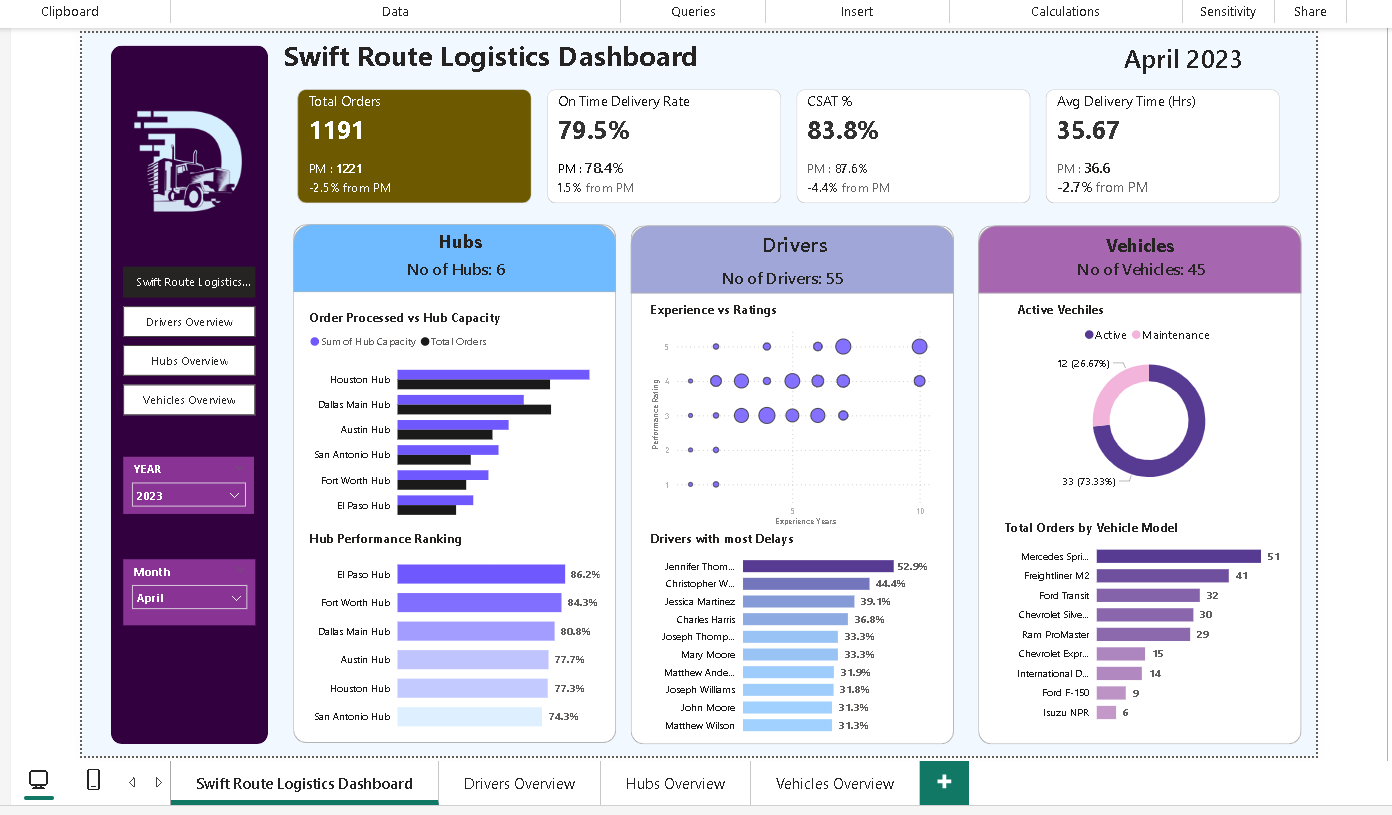

The page's visual inventory and layout, read from the dashboard file:
{"tool":"powerbi","page":{"name":"Swift Route Logistics Dashboard","canvas":[1450,850],"ordinal":0},"visuals":[{"type":"shape","box":[34.2,14,185,820.8],"z":0},{"type":"textbox","box":[231.6,0,542.5,66.8],"z":1000},{"type":"cardVisual","fields":{"Data":["Orders.Total Orders","Orders.On Time Delivery Rate","Orders.CSAT %","Orders.Avg Delivery Time (Hrs)"]},"box":[247.7,55.4,1165.2,149.9],"z":2000},{"type":"slicer","fields":{"Values":["Date Table.YEAR"]},"box":[48.2,497.4,153.9,66.8],"z":3000},{"type":"slicer","fields":{"Values":["Date Table.Month"]},"box":[48.2,618.7,155.4,77.7],"z":4000},{"type":"shape","box":[248.7,225.4,379.3,609.4],"z":5000},{"type":"shape","box":[248.7,225.4,379.3,80],"z":6000},{"type":"textbox","box":[240.9,66.8,547.2,9.3],"z":7000},{"type":"textbox","box":[347.1,224.9,197.2,45.6],"z":8000},{"type":"cardVisual","fields":{"Data":["Hubs.No of Hubs"]},"box":[334.2,248.7,209.9,56],"z":9000},{"type":"clusteredBarChart","title":"Order Processed vs Hub Capacity","fields":{"Category":["Hubs.HubName"],"Y":["Sum(Hubs.Hub Capacity)","Orders.Total Orders"]},"box":[262.4,322.7,350.4,260.7],"z":10000},{"type":"barChart","title":"Hub Performance Ranking","fields":{"Category":["Hubs.HubName"],"Y":["Orders.On Time Delivery Rate"]},"box":[262.4,583.4,350.4,251],"z":11000},{"type":"shape","box":[645.3,226.5,379.7,609.5],"z":12000},{"type":"shape","box":[645.3,226.5,379.7,79.8],"z":13000},{"type":"shape","box":[1052.7,226.5,379.7,609.5],"z":14000},{"type":"textbox","box":[752.9,226.5,167.8,45.6],"z":15000},{"type":"cardVisual","fields":{"Data":["Drivers.No of Drivers"]},"box":[725.2,265.6,195.6,40.7],"z":16000},{"type":"scatterChart","title":"Experience vs Ratings","fields":{"X":["Drivers.Experience Years"],"Y":["Drivers.Performance Rating"],"Size":["Sum(Drivers.Experience Years)1"]},"box":[663.2,314.5,345.5,268.9],"z":17000},{"type":"barChart","title":"Drivers with most Delays","fields":{"Category":["Drivers.DriverName"],"Y":["Orders.Delayed Delivery Rate"]},"box":[663.2,583.4,334.1,251],"z":18000},{"type":"shape","box":[1052.7,226.5,379.7,79.8],"z":19000},{"type":"textbox","box":[1122.8,229.8,239.5,47.3],"z":20000},{"type":"cardVisual","fields":{"Data":["Vehicles.No of Vehicles"]},"box":[1139.1,247.7,210.2,55.4],"z":21000},{"type":"donutChart","title":"Active Vechiles","fields":{"Category":["Vehicles.Vehicle Status"],"Y":["CountNonNull(Vehicles.Vehicle ID)"]},"box":[1093.5,314.5,319.4,233],"z":22000},{"type":"barChart","fields":{"Category":["Vehicles.Vehicle Model"],"Y":["Orders.Total Orders"]},"box":[1078.8,570.4,334.1,251],"z":23000},{"type":"image","box":[48.9,65.2,154.8,182.5],"z":24000},{"type":"cardVisual","fields":{"Data":["Orders.Year Month Title"]},"box":[1189.6,0,210.2,55.4],"z":25000},{"type":"pageNavigator","box":[48.2,275.1,155.4,177.2],"z":25001}]}

Visuals, with their boxes on the page's 1450x850 design canvas (x1, y1, x2, y2). These are canvas units, not pixel positions in the 1392x815 screenshot, which may show the page scaled, cropped or inside an application window:
shape: 34,14,219,835
textbox: 232,0,774,67
cardVisual - Orders.Total Orders x Orders.On Time Delivery Rate: 248,55,1413,205
slicer - Date Table.YEAR: 48,497,202,564
slicer - Date Table.Month: 48,619,204,696
shape: 249,225,628,835
shape: 249,225,628,305
textbox: 241,67,788,76
textbox: 347,225,544,270
cardVisual - Hubs.No of Hubs: 334,249,544,305
"Order Processed vs Hub Capacity" clusteredBarChart: 262,323,613,583
"Hub Performance Ranking" barChart: 262,583,613,834
shape: 645,226,1025,836
shape: 645,226,1025,306
shape: 1053,226,1432,836
textbox: 753,226,921,272
cardVisual - Drivers.No of Drivers: 725,266,921,306
"Experience vs Ratings" scatterChart: 663,314,1009,583
"Drivers with most Delays" barChart: 663,583,997,834
shape: 1053,226,1432,306
textbox: 1123,230,1362,277
cardVisual - Vehicles.No of Vehicles: 1139,248,1349,303
"Active Vechiles" donutChart: 1094,314,1413,548
barChart - Vehicles.Vehicle Model x Orders.Total Orders: 1079,570,1413,821
image: 49,65,204,248
cardVisual - Orders.Year Month Title: 1190,0,1400,55
pageNavigator: 48,275,204,452
